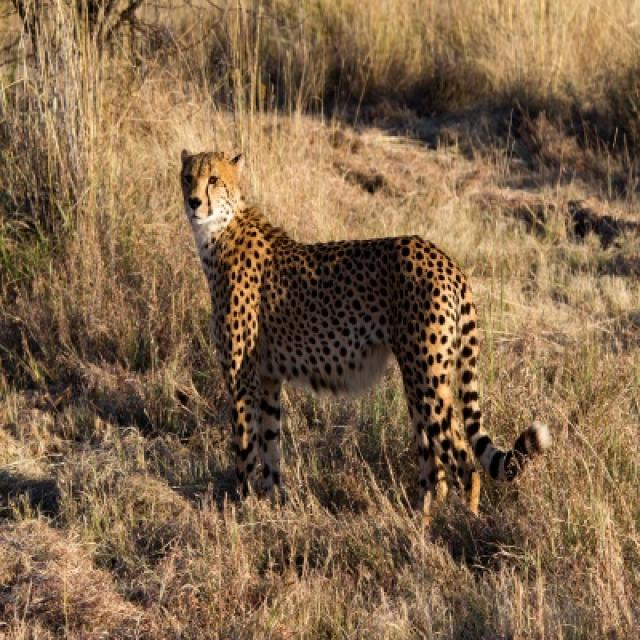Cheetah: (178, 152, 542, 506)
